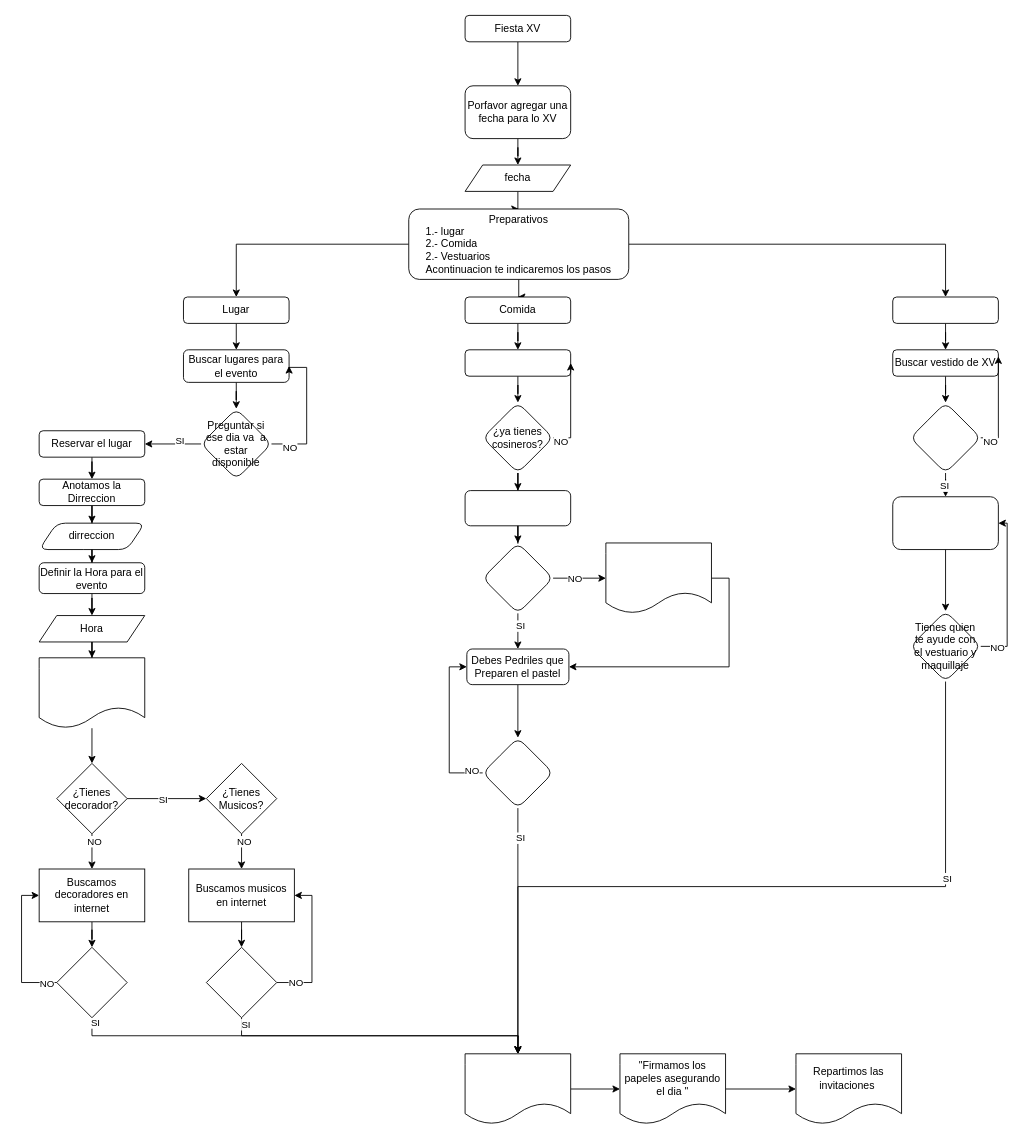
This 1030x1140 diagram has some shape labels left out. Here are the shapes that lost their labels. From the top down, the centre of each, then its label:
the point at 945,309: Vestuario
the point at 517,362: Buscar Cosineros
the point at 945,437: ¿Ya tienes el vestido?
the point at 517,508: deside la comida que se servira
the point at 945,523: Busca personas que te ayuden con el maquillaje y el vestido
the point at 517,577: Ya saves que van a cosinar
the point at 658,577: "Deberias pedir consejos de los chefs"
the point at 91,692: "firmar los papeles separando el lugar y la fecha"
the point at 517,772: ¿Pediste que te preparen el pastel?
the point at 91,982: ¿Ya tienes decorador?
the point at 241,982: ¿Ya tienes musicos?
the point at 517,1088: "Le Pasamos el dia y la hora del evento"
